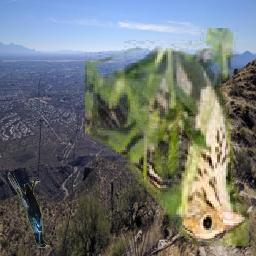Crow: (8, 172, 51, 249)
Sparrow: (85, 28, 249, 246)
